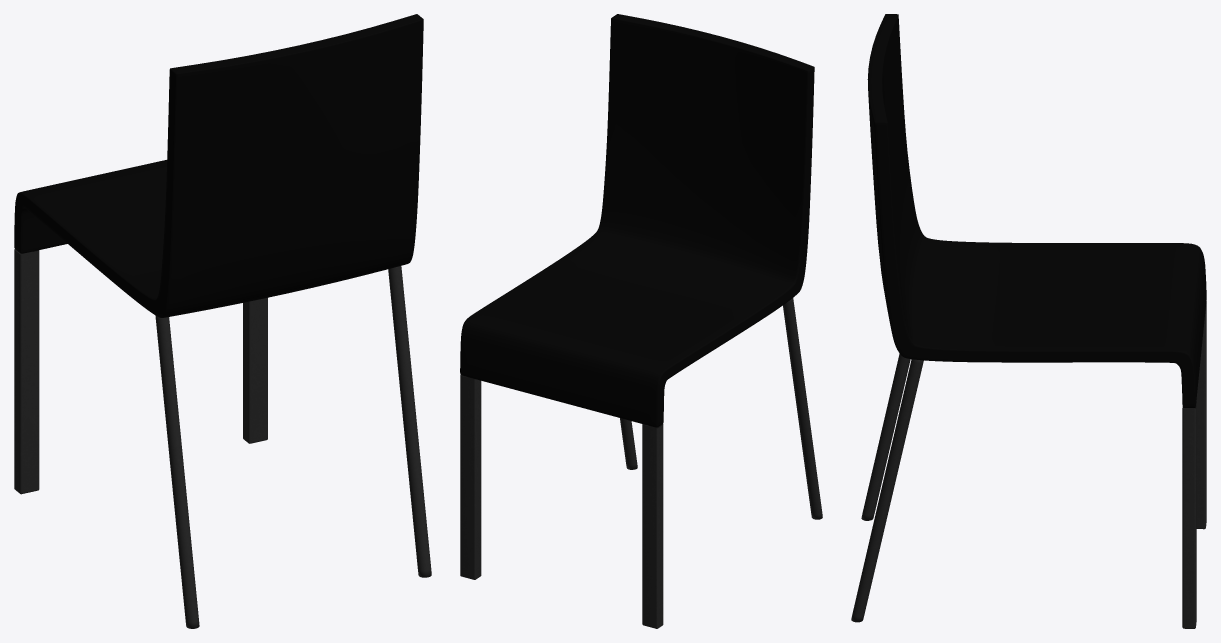
The model's file is Chaise.fbx.
3 views of the same model, side by side, from view 1: azimuth 30°, elevation 25°; view 2: azimuth 150°, elevation 25°; view 3: azimuth 270°, elevation 25° (orthographic). The views are drawn at different scales.
Parts seen in each view (by area): view 1: Asiento.002; view 2: Asiento.002; view 3: Asiento.002.
Boxes of the visible parts, left/top/right/bottom form: Asiento.002: left=14, top=14, right=431, bottom=628; Asiento.002: left=460, top=14, right=822, bottom=628; Asiento.002: left=851, top=14, right=1206, bottom=628.
Bounding box in the file's own units: 48.34 × 99.15 × 63.66.
2 materials, 2 textured.
